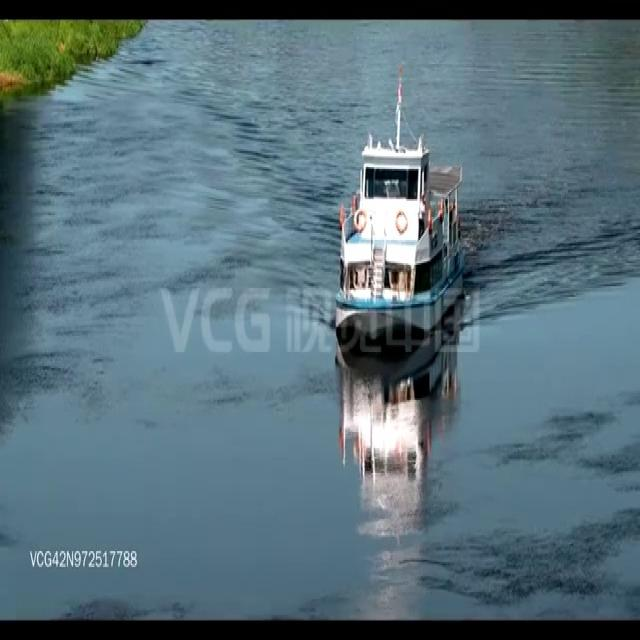passenger ship: (336, 72, 464, 344)
